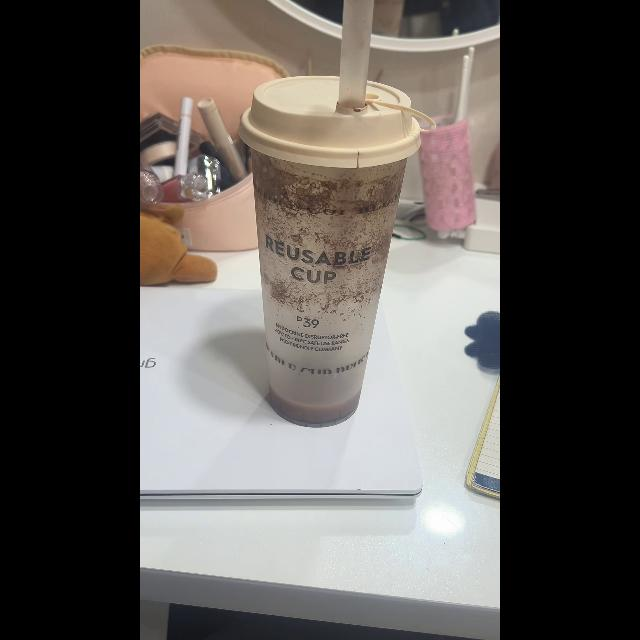dirty: (248, 150, 410, 436)
